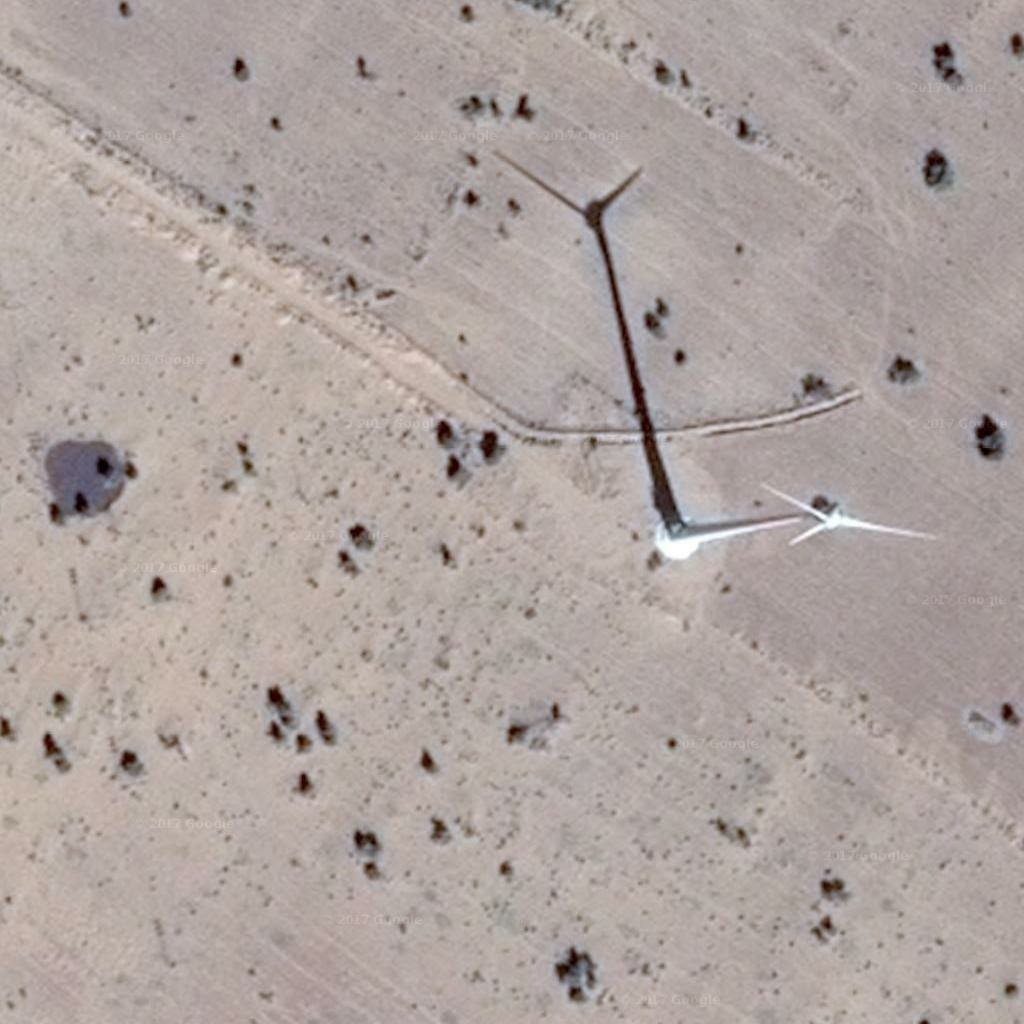Windmill: (494, 148, 697, 524)
